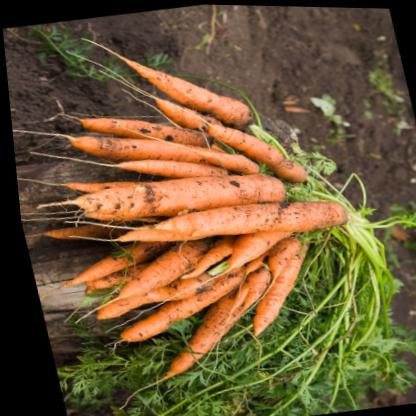--: (75, 7, 265, 146), (25, 156, 296, 235), (81, 185, 355, 263)
